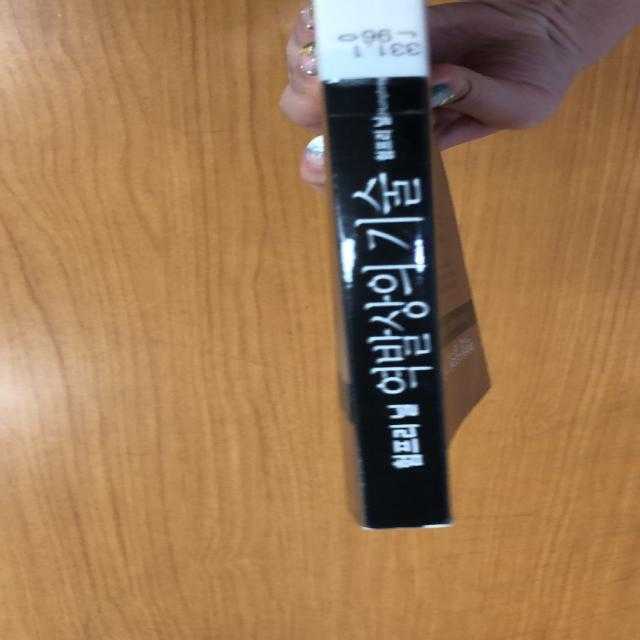Wornout: (354, 513, 459, 534)
